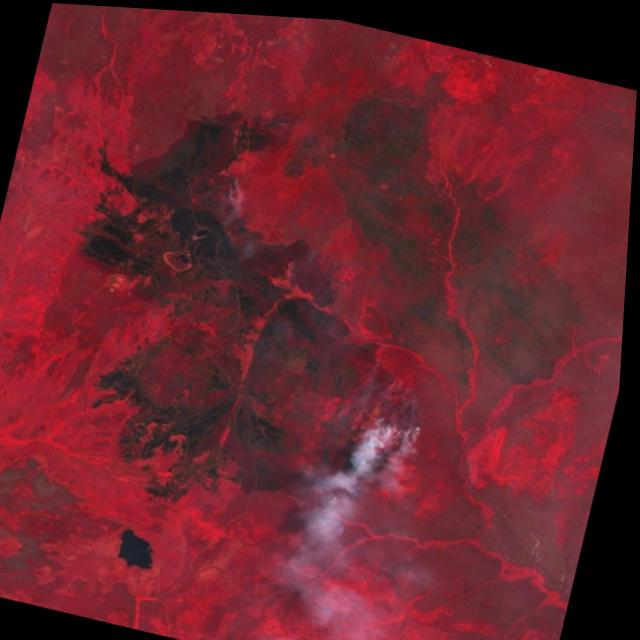fire: (304, 369, 445, 532)
